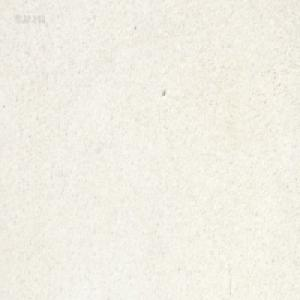Wrench: (207, 0, 213, 5)
